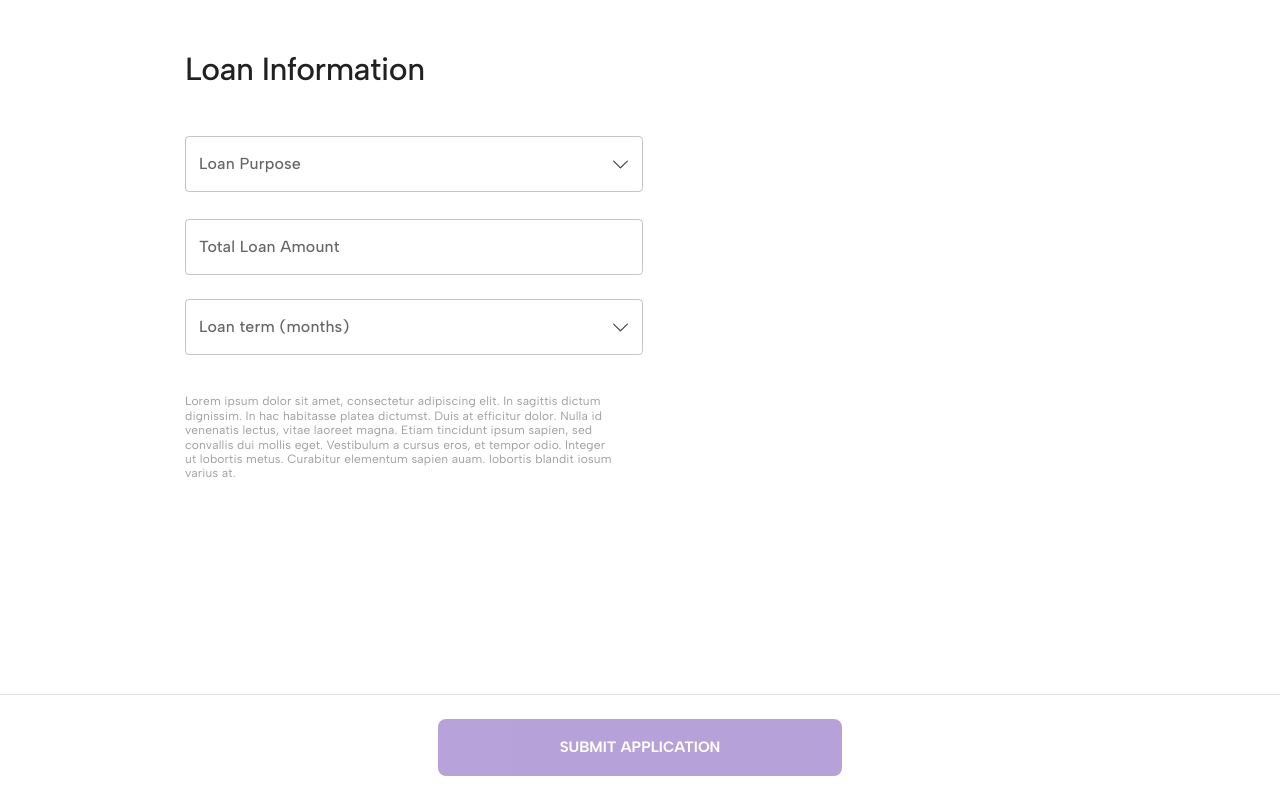
it: <LoanRequest /> › should format input value correctly as currency
The image size is (1280, 800).
Type "123456" into the field labelled "Total Loan Amount".
click(414, 247); type("123456")  # box [185,219,643,275]
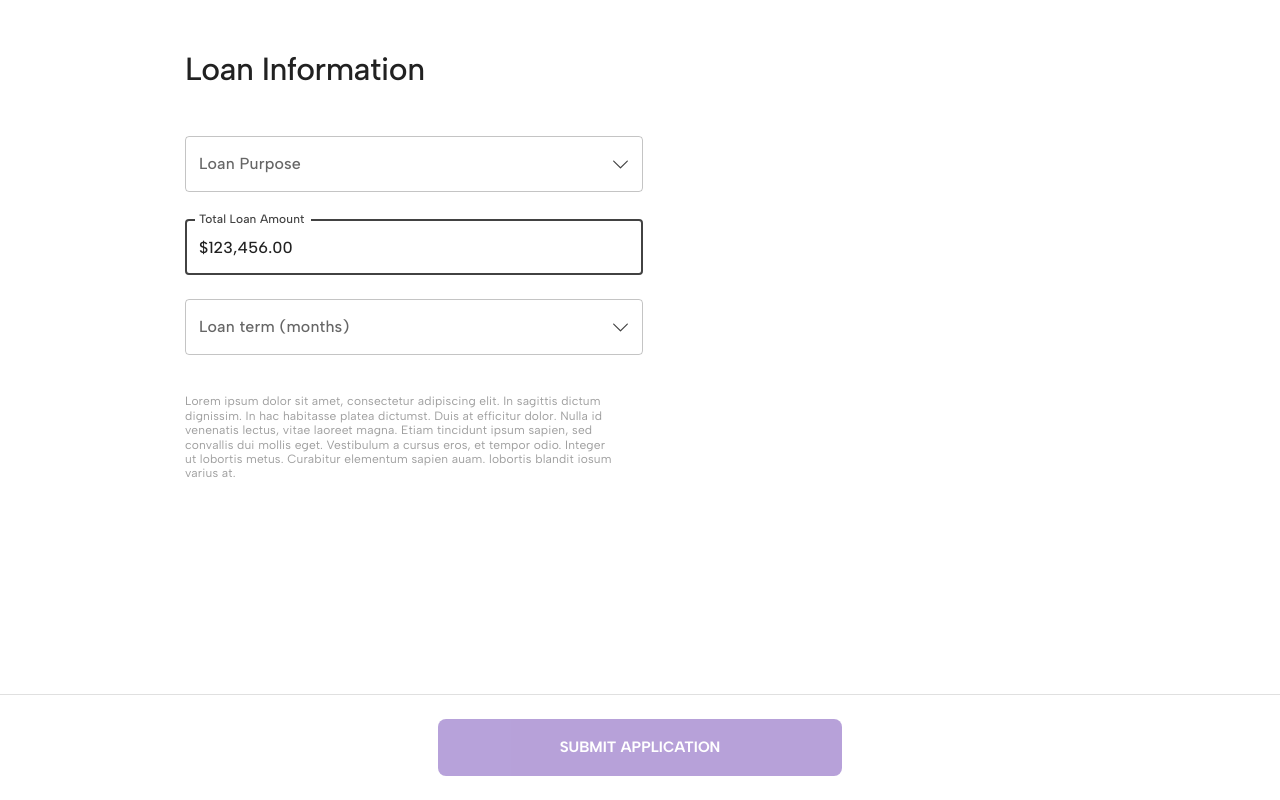
Check: the field labelled "Total Loan Amount" holds "$123,456.00", box [185,219,643,275]
